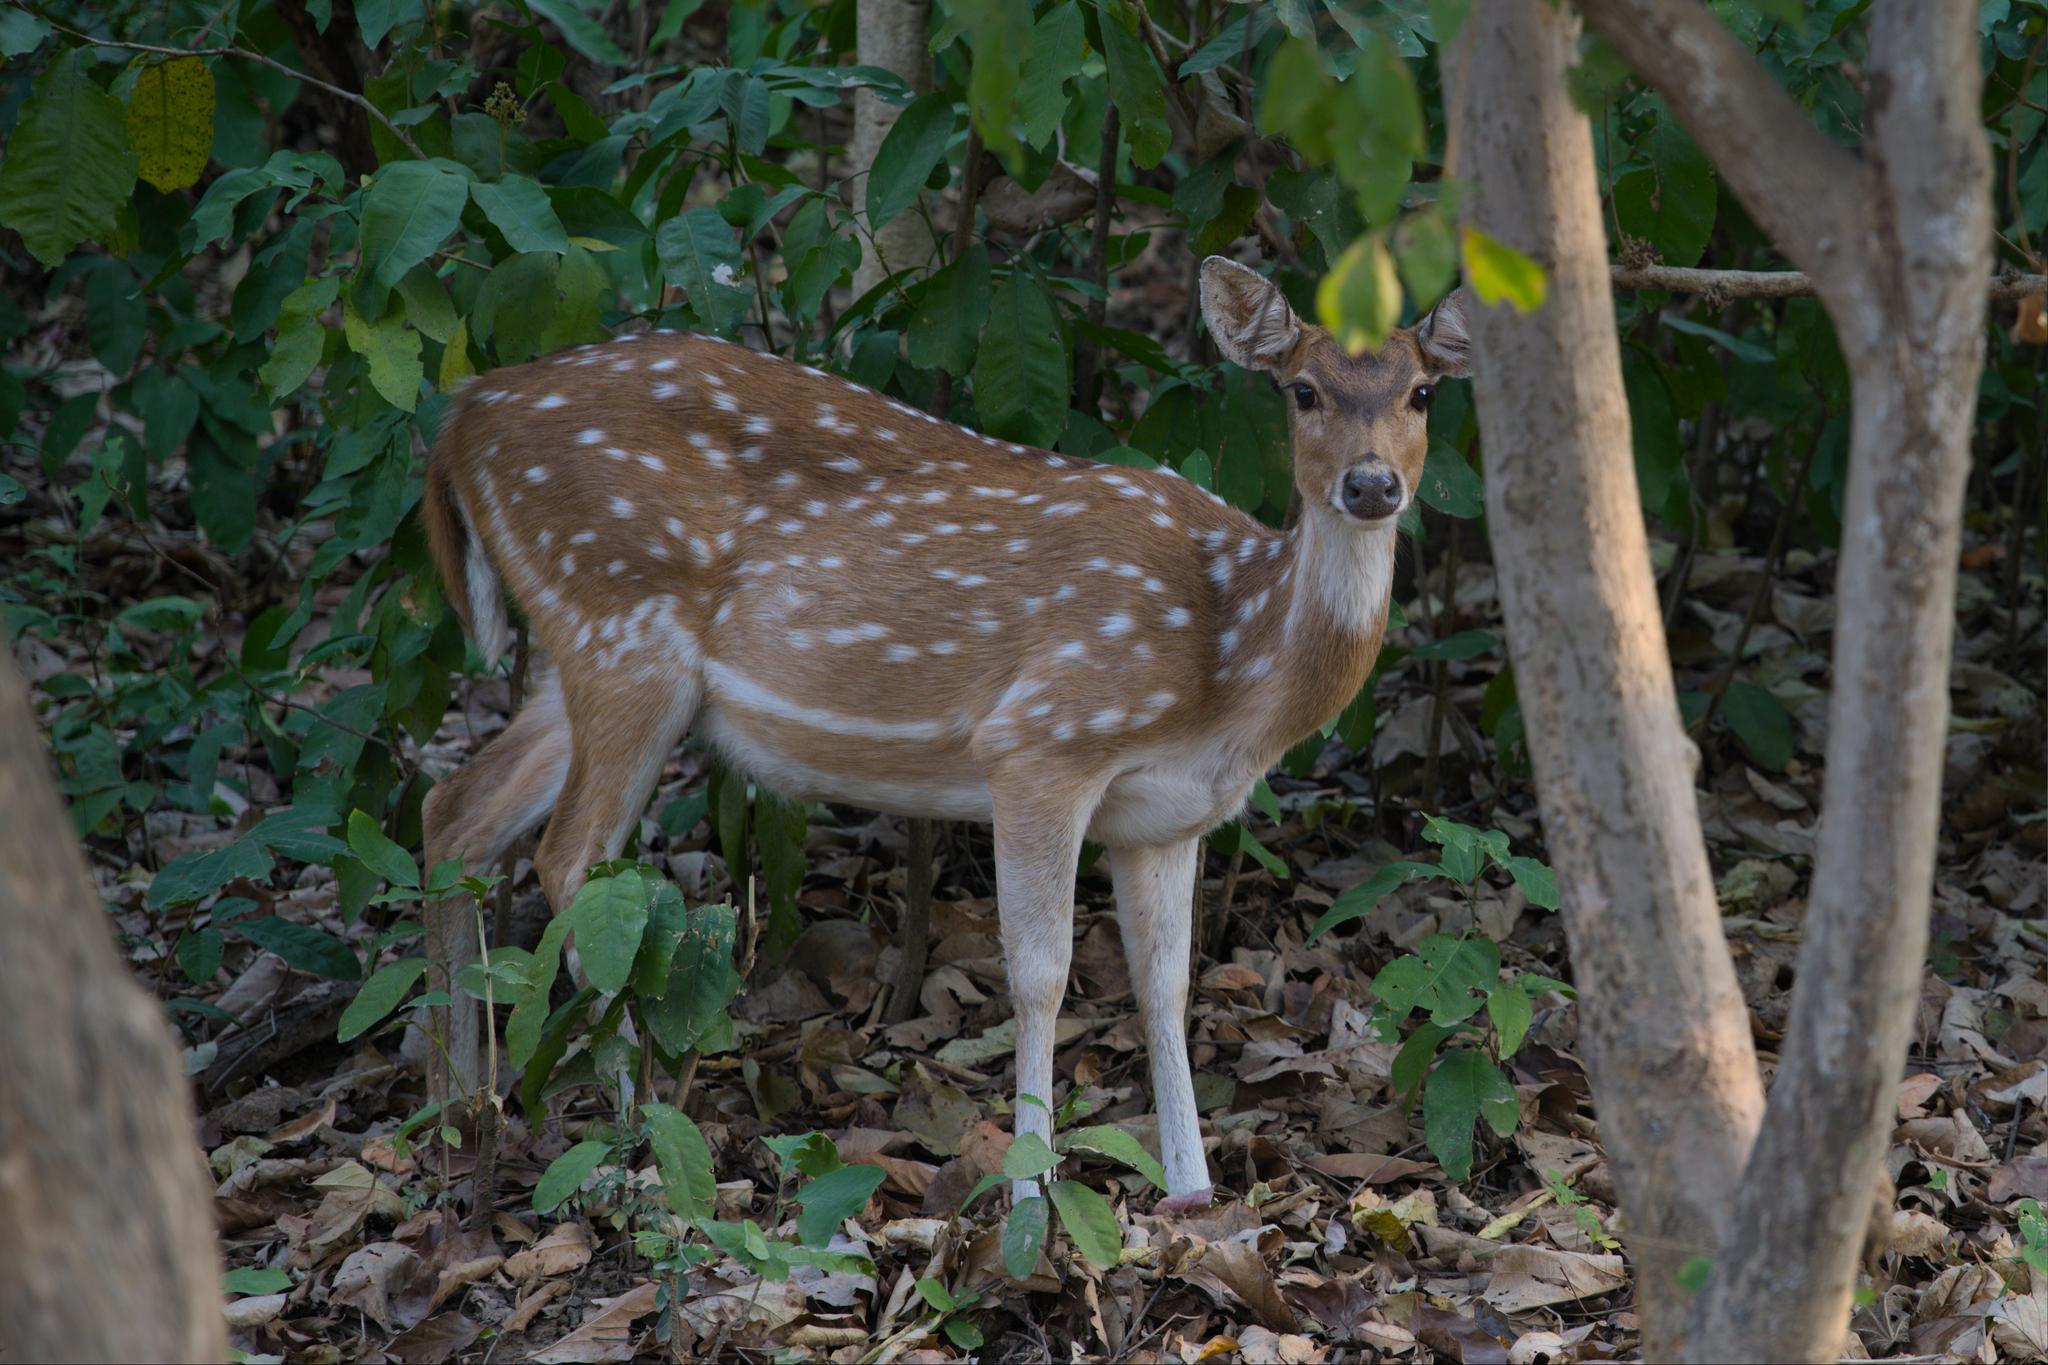Deer: (425, 257, 1469, 1194)
